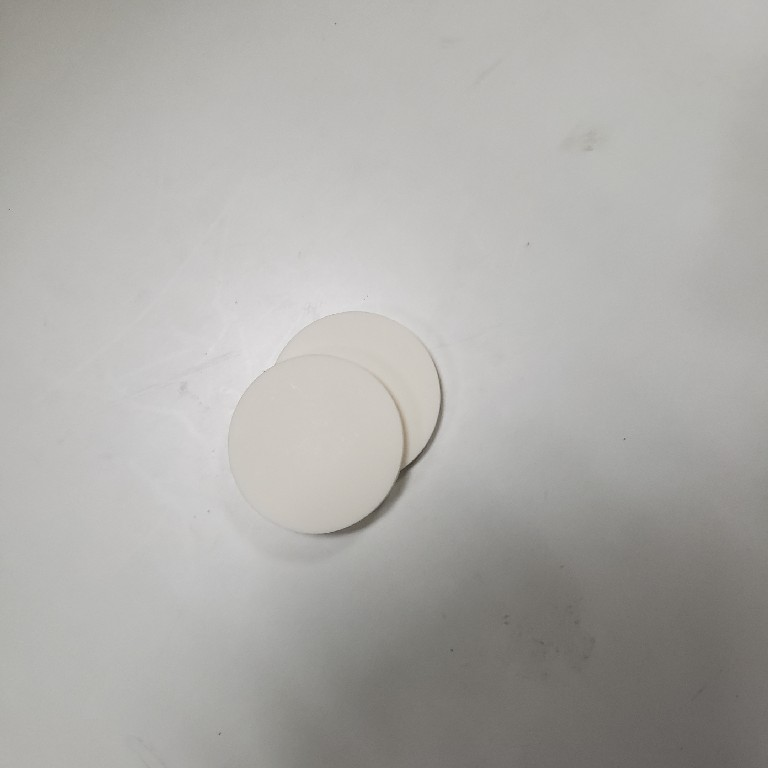ceramics: (220, 306, 450, 541)
